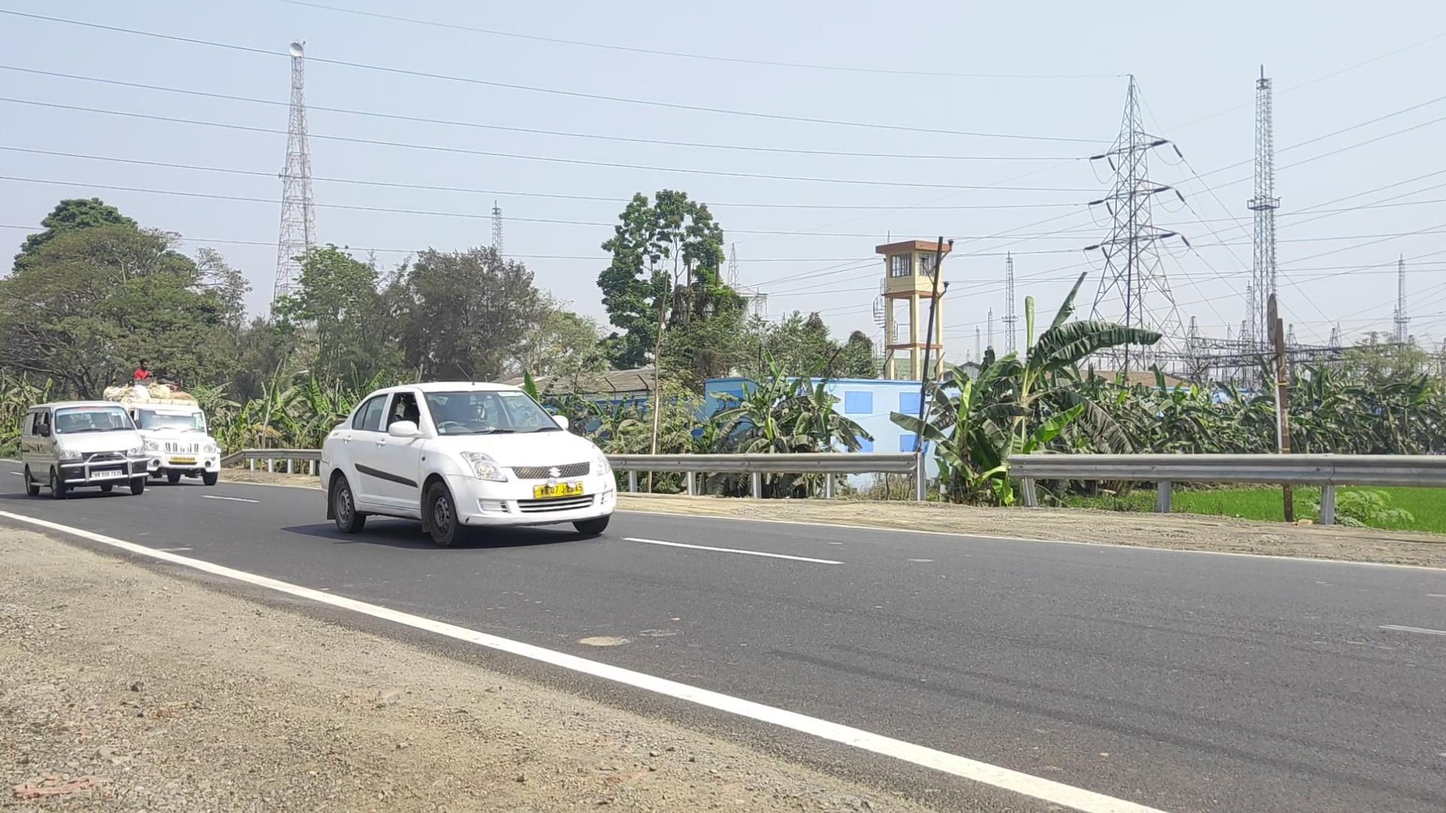car: (319, 379, 617, 548)
van: (102, 358, 221, 487), (20, 400, 149, 500)
